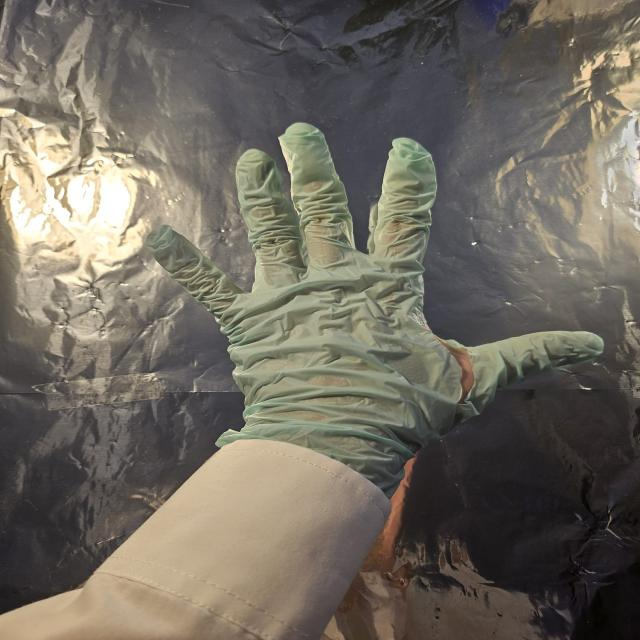gloves_damaged: (140, 120, 610, 491)
